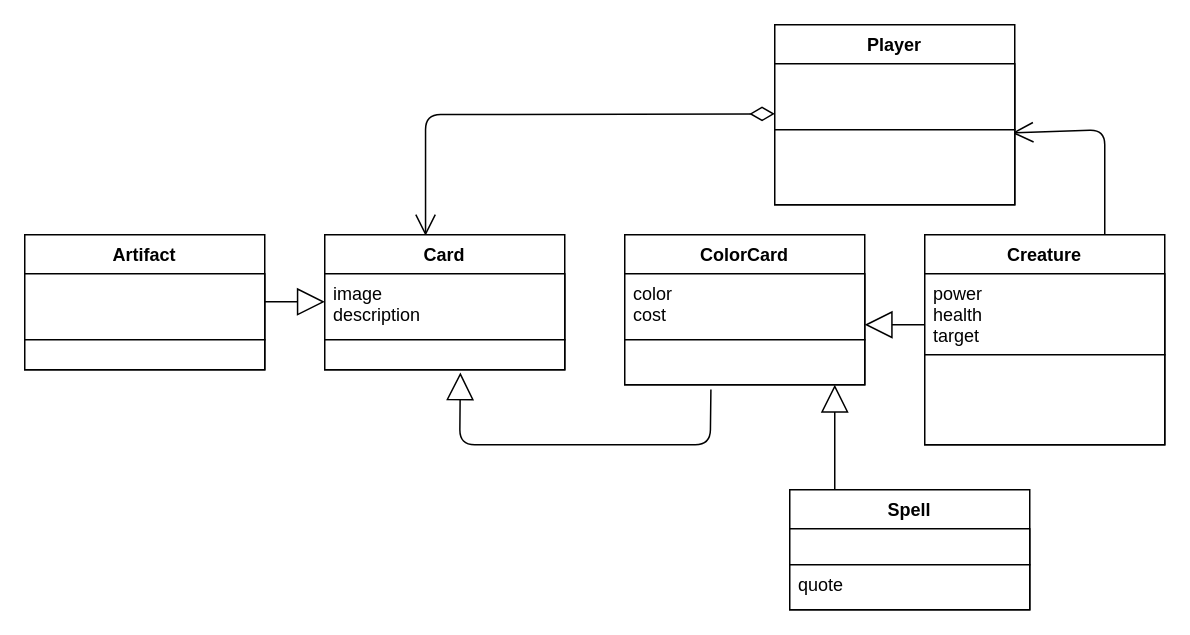
Image size: 1190x635. Some labels were removed from this diagram. The centre of each missing label's shape, as x and y in pixels:
bind addPower addHealth: (x=1044, y=399)
buy use: (x=894, y=166)
colorName: (x=744, y=361)
cost: (x=144, y=306)
health cards: (x=894, y=96)
